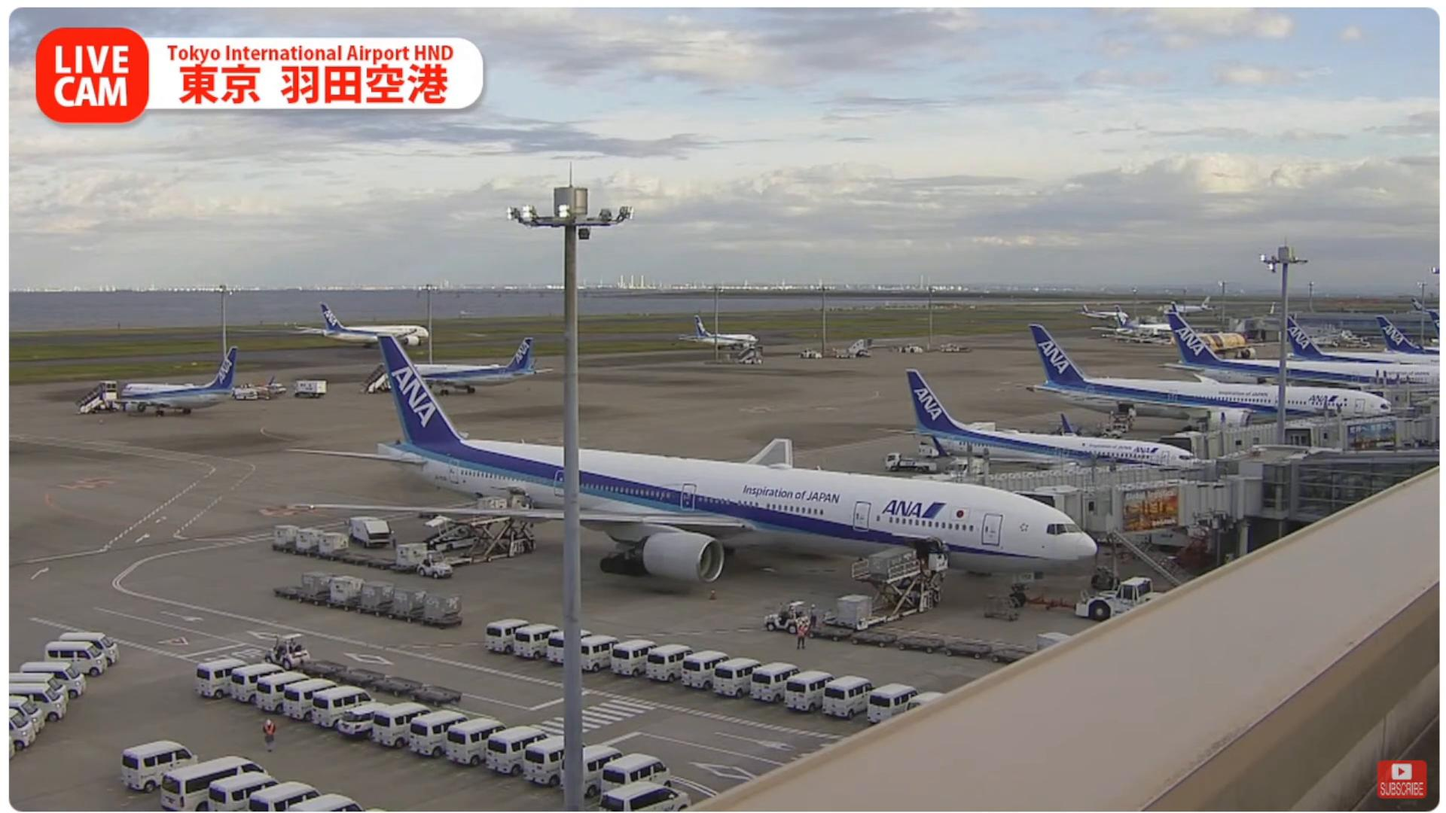APS: (1079, 573, 1169, 620)
Aerobridge: (937, 438, 1217, 490), (1025, 480, 1229, 535)
Airplane: (279, 328, 1098, 610)
Baggage truck: (348, 512, 393, 549)
Dolly: (276, 584, 456, 636), (816, 627, 1044, 668), (256, 542, 415, 575)
JCPL: (830, 549, 945, 638), (447, 519, 535, 571)
Skyloader: (416, 502, 490, 546)
Tractor: (764, 596, 811, 635), (412, 549, 448, 575)
Window: (1286, 455, 1435, 523)
